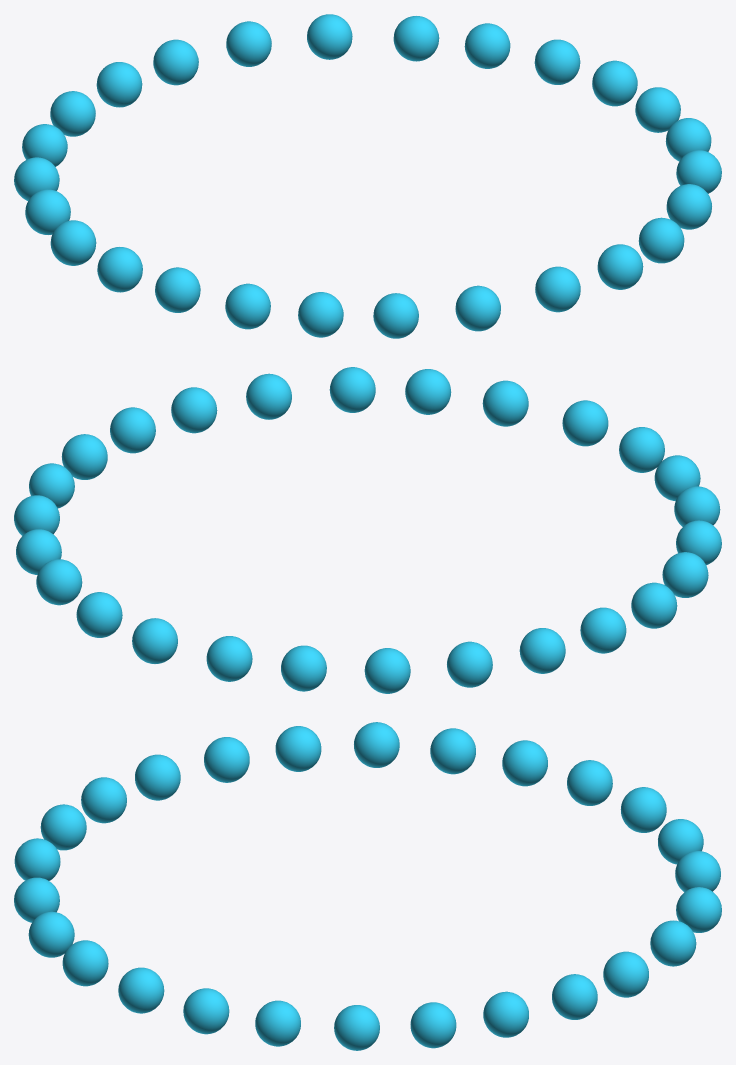
The picture shows the model from 3 angles, top to bottom: view 1: azimuth 30°, elevation 25°; view 2: azimuth 150°, elevation 25°; view 3: azimuth 270°, elevation 25°; orthographic projection.
Visible parts, largest first — view 1: Sphere048; view 2: Sphere048; view 3: Sphere048.
Boxes of the visible parts, bbox=[...] form: Sphere048: bbox=[14, 14, 721, 338]; Sphere048: bbox=[14, 367, 721, 693]; Sphere048: bbox=[14, 722, 721, 1050].
Bounding box in the file's own units: 127 × 8.22 × 126.
